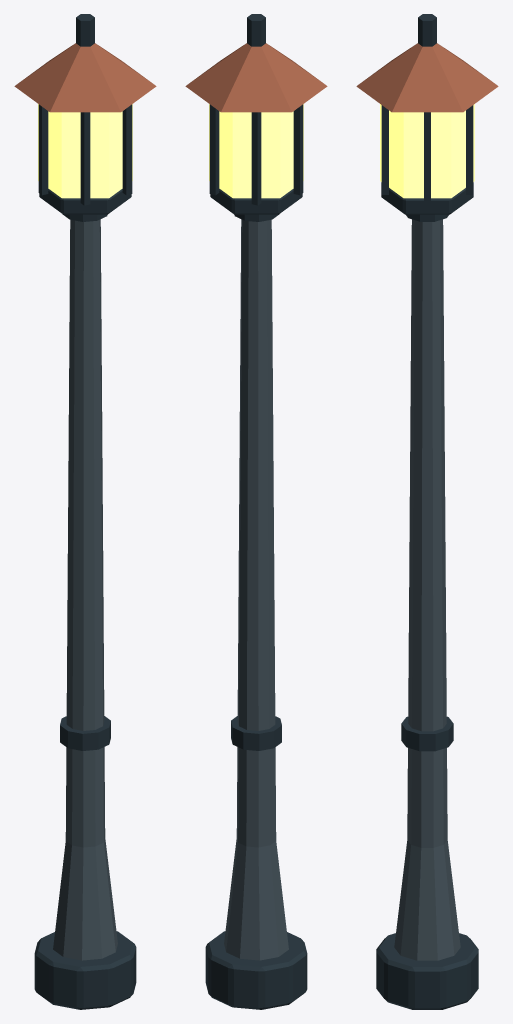
The model's file is streetLamp.glb.
The picture shows the model from 3 angles, left to right: view 1: azimuth 30°, elevation 25°; view 2: azimuth 150°, elevation 25°; view 3: azimuth 270°, elevation 25°; orthographic projection.
Visible parts, largest first — view 1: streetLamp_slate, streetLamp_slateDark, streetLamp_terracotta, streetLamp_lampGlass; view 2: streetLamp_slate, streetLamp_slateDark, streetLamp_terracotta, streetLamp_lampGlass; view 3: streetLamp_slate, streetLamp_slateDark, streetLamp_terracotta, streetLamp_lampGlass.
Part boxes in pixels (left/top/right/bottom): streetLamp_slate: left=53, top=219, right=117, bottom=960; streetLamp_slateDark: left=34, top=14, right=136, bottom=1009; streetLamp_terracotta: left=14, top=43, right=156, bottom=112; streetLamp_lampGlass: left=38, top=104, right=132, bottom=198; streetLamp_slate: left=224, top=219, right=288, bottom=960; streetLamp_slateDark: left=205, top=14, right=307, bottom=1009; streetLamp_terracotta: left=185, top=43, right=327, bottom=112; streetLamp_lampGlass: left=209, top=104, right=303, bottom=198; streetLamp_slate: left=394, top=219, right=460, bottom=960; streetLamp_slateDark: left=376, top=14, right=478, bottom=1009; streetLamp_terracotta: left=356, top=43, right=498, bottom=112; streetLamp_lampGlass: left=380, top=104, right=474, bottom=198.
Size of the model in its own units: 0.5196 by 4.52 by 0.6.
